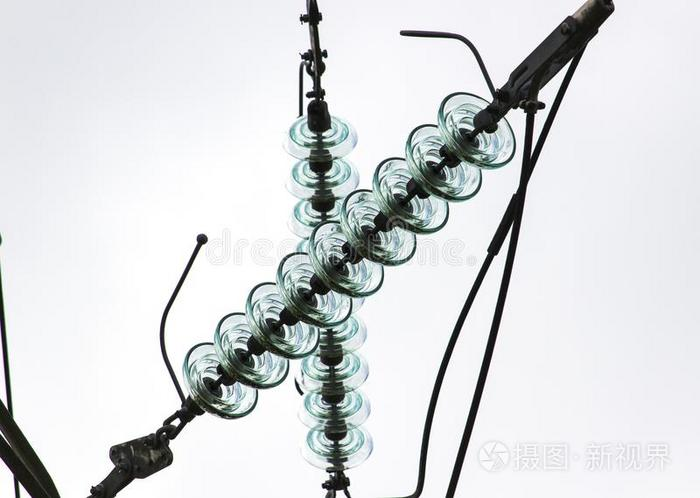insulator: (184, 88, 516, 422), (278, 114, 375, 471)
